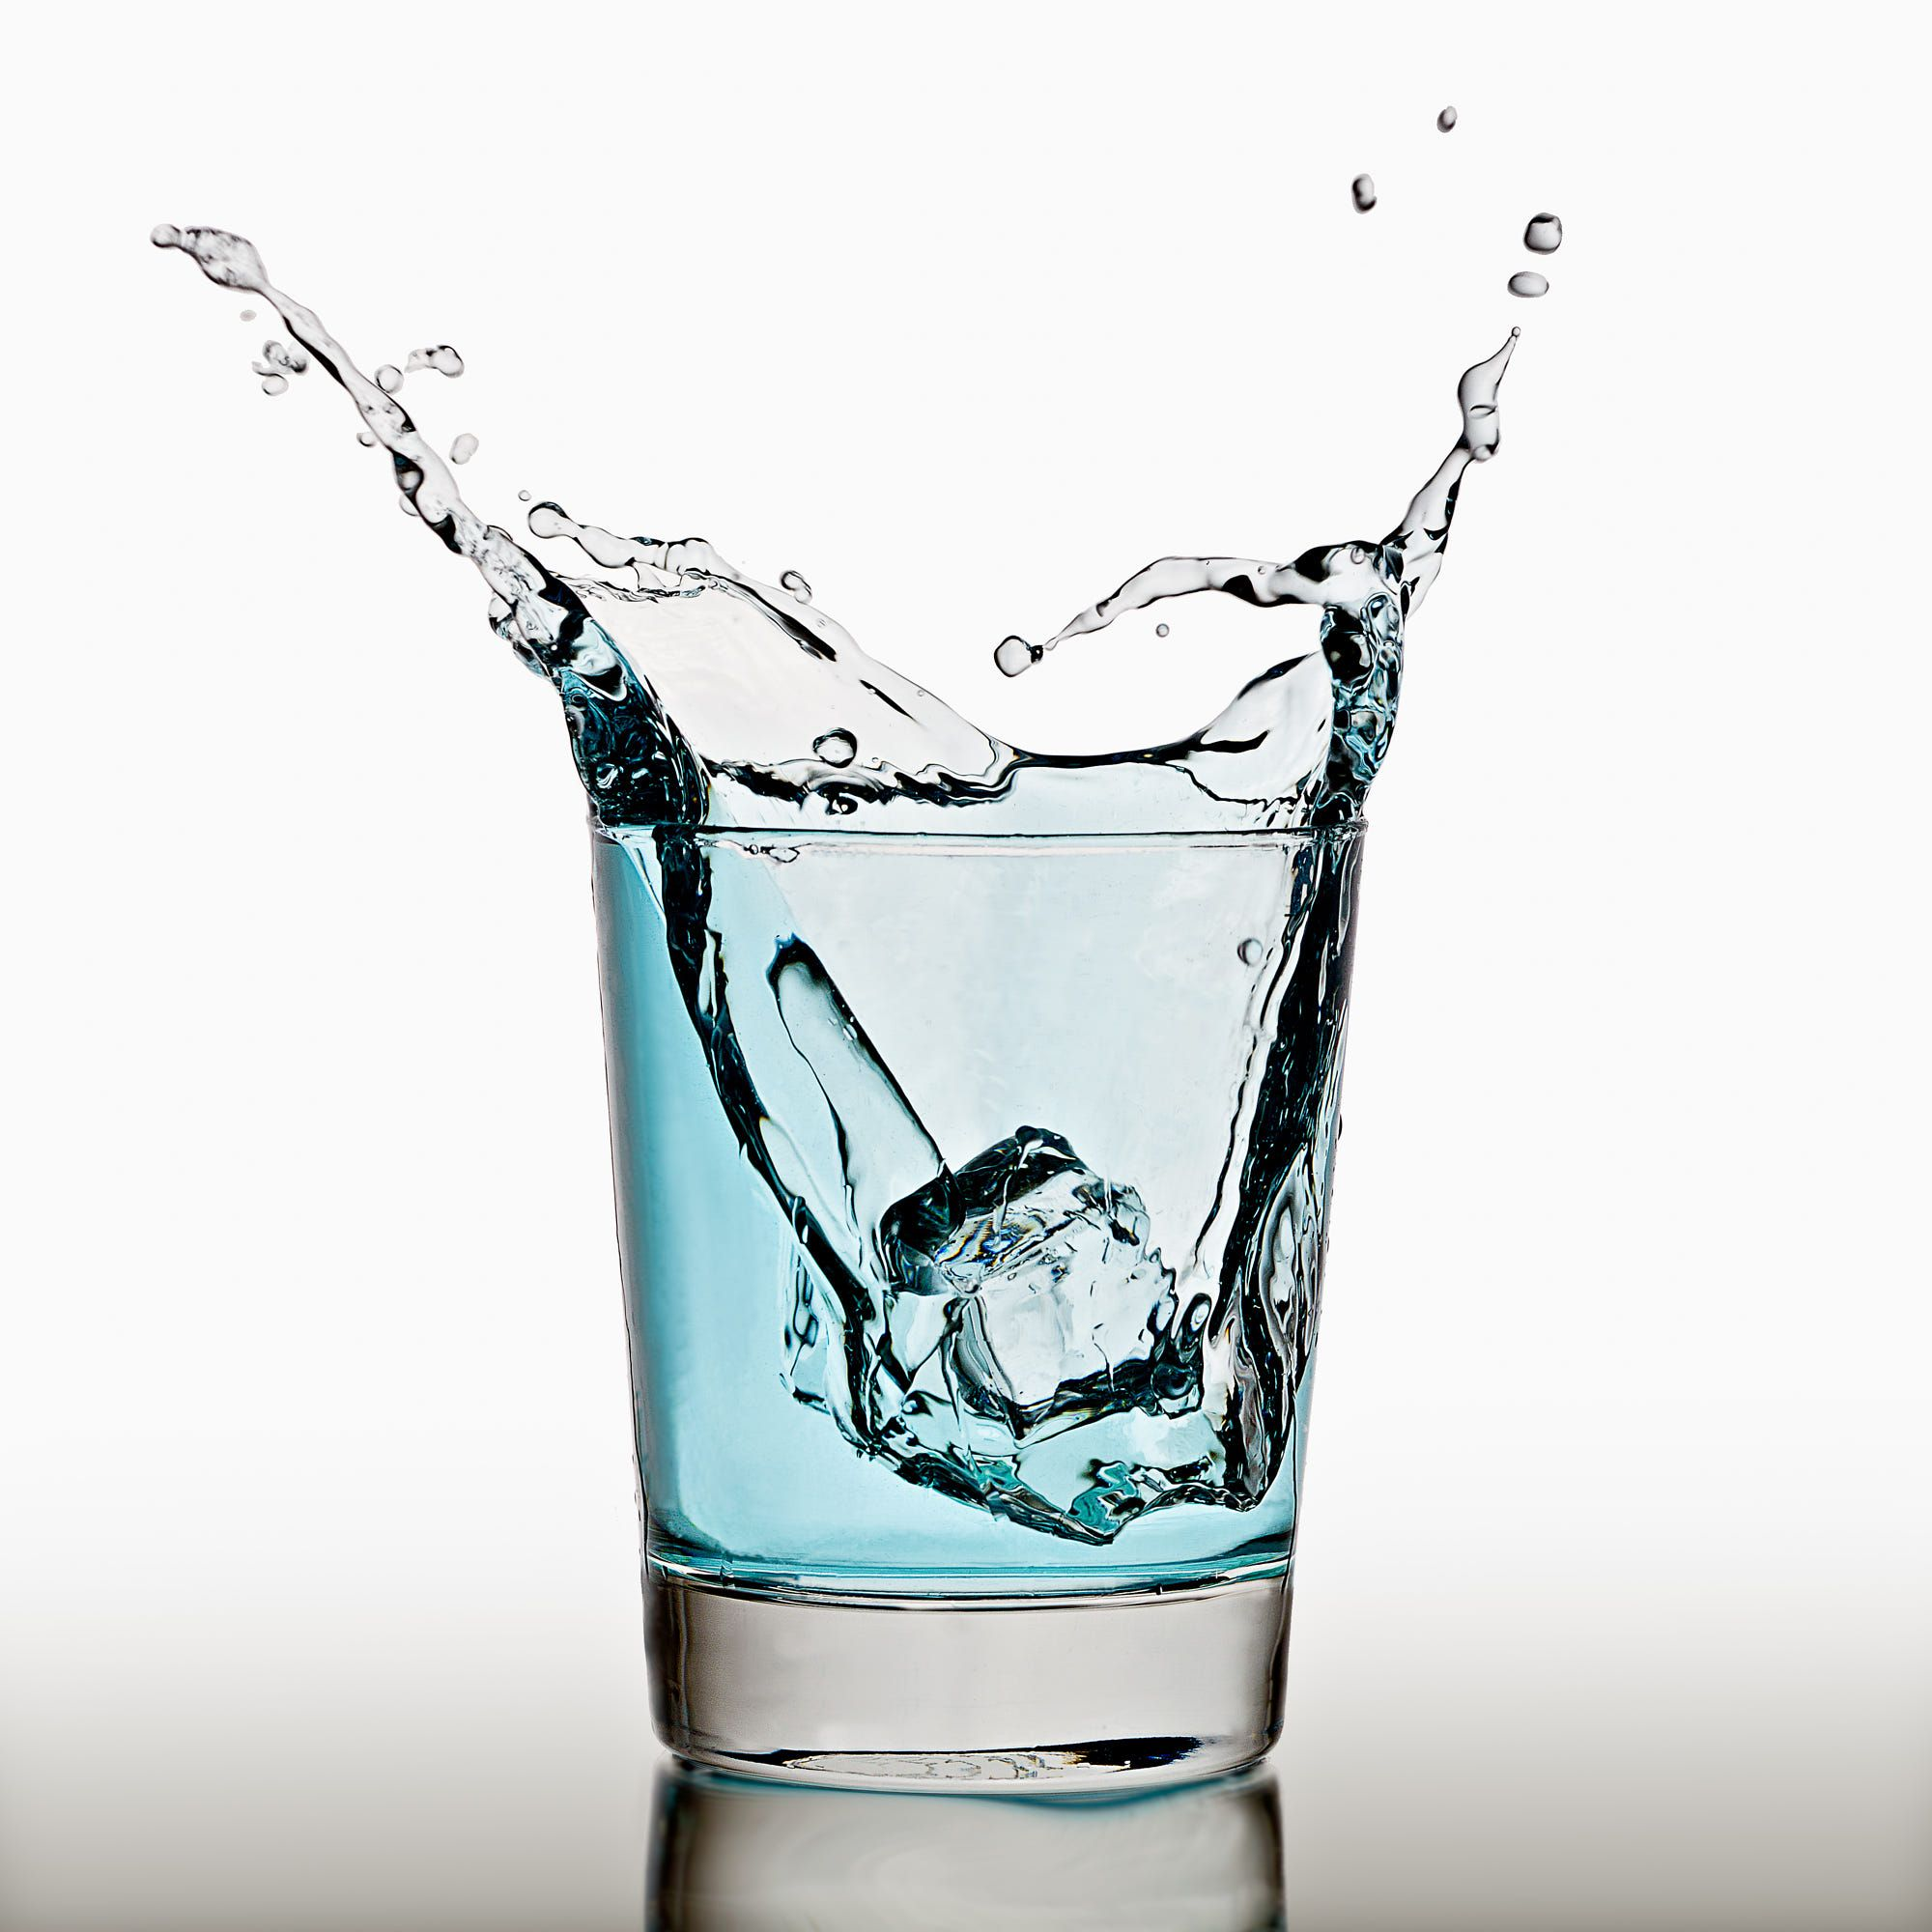glass of water: (586, 777, 1299, 1773)
